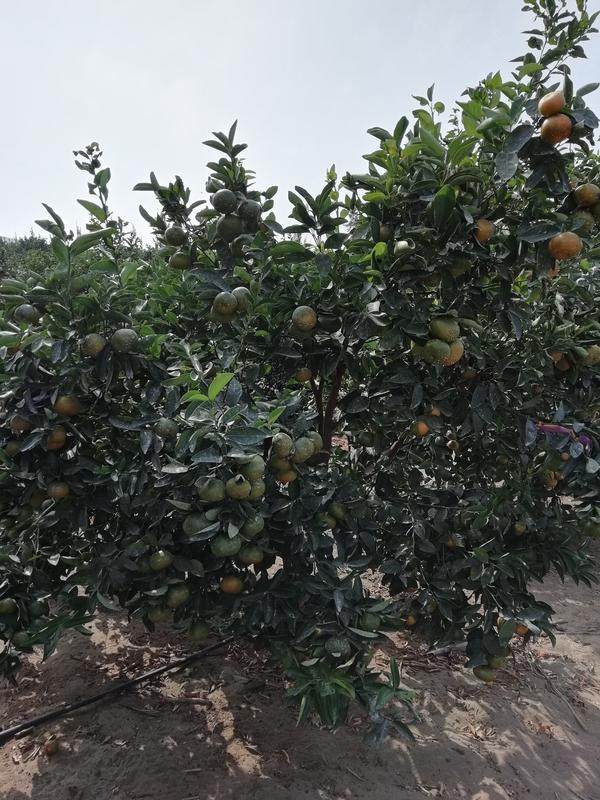mandarina naranja: (542, 114, 572, 144), (549, 232, 581, 258), (538, 92, 564, 114), (576, 184, 598, 206), (55, 397, 79, 416), (476, 220, 495, 240), (221, 576, 243, 593)
mandarina verde: (111, 329, 139, 354), (210, 536, 241, 557), (432, 318, 459, 342), (213, 189, 237, 213), (271, 432, 294, 457), (293, 305, 316, 330), (423, 340, 450, 361), (293, 437, 314, 463), (82, 333, 105, 356), (213, 292, 237, 314), (218, 214, 239, 238), (228, 478, 251, 499), (150, 551, 175, 570), (168, 588, 190, 609), (240, 199, 260, 222), (326, 637, 350, 656), (14, 305, 40, 322), (244, 516, 265, 537), (245, 457, 265, 479), (166, 225, 187, 245), (155, 417, 176, 437), (358, 613, 381, 631), (233, 288, 249, 313), (190, 621, 210, 640), (473, 666, 498, 681), (241, 548, 263, 565), (330, 500, 348, 518), (170, 251, 189, 268), (48, 483, 68, 497), (252, 480, 265, 498), (295, 369, 312, 381)
